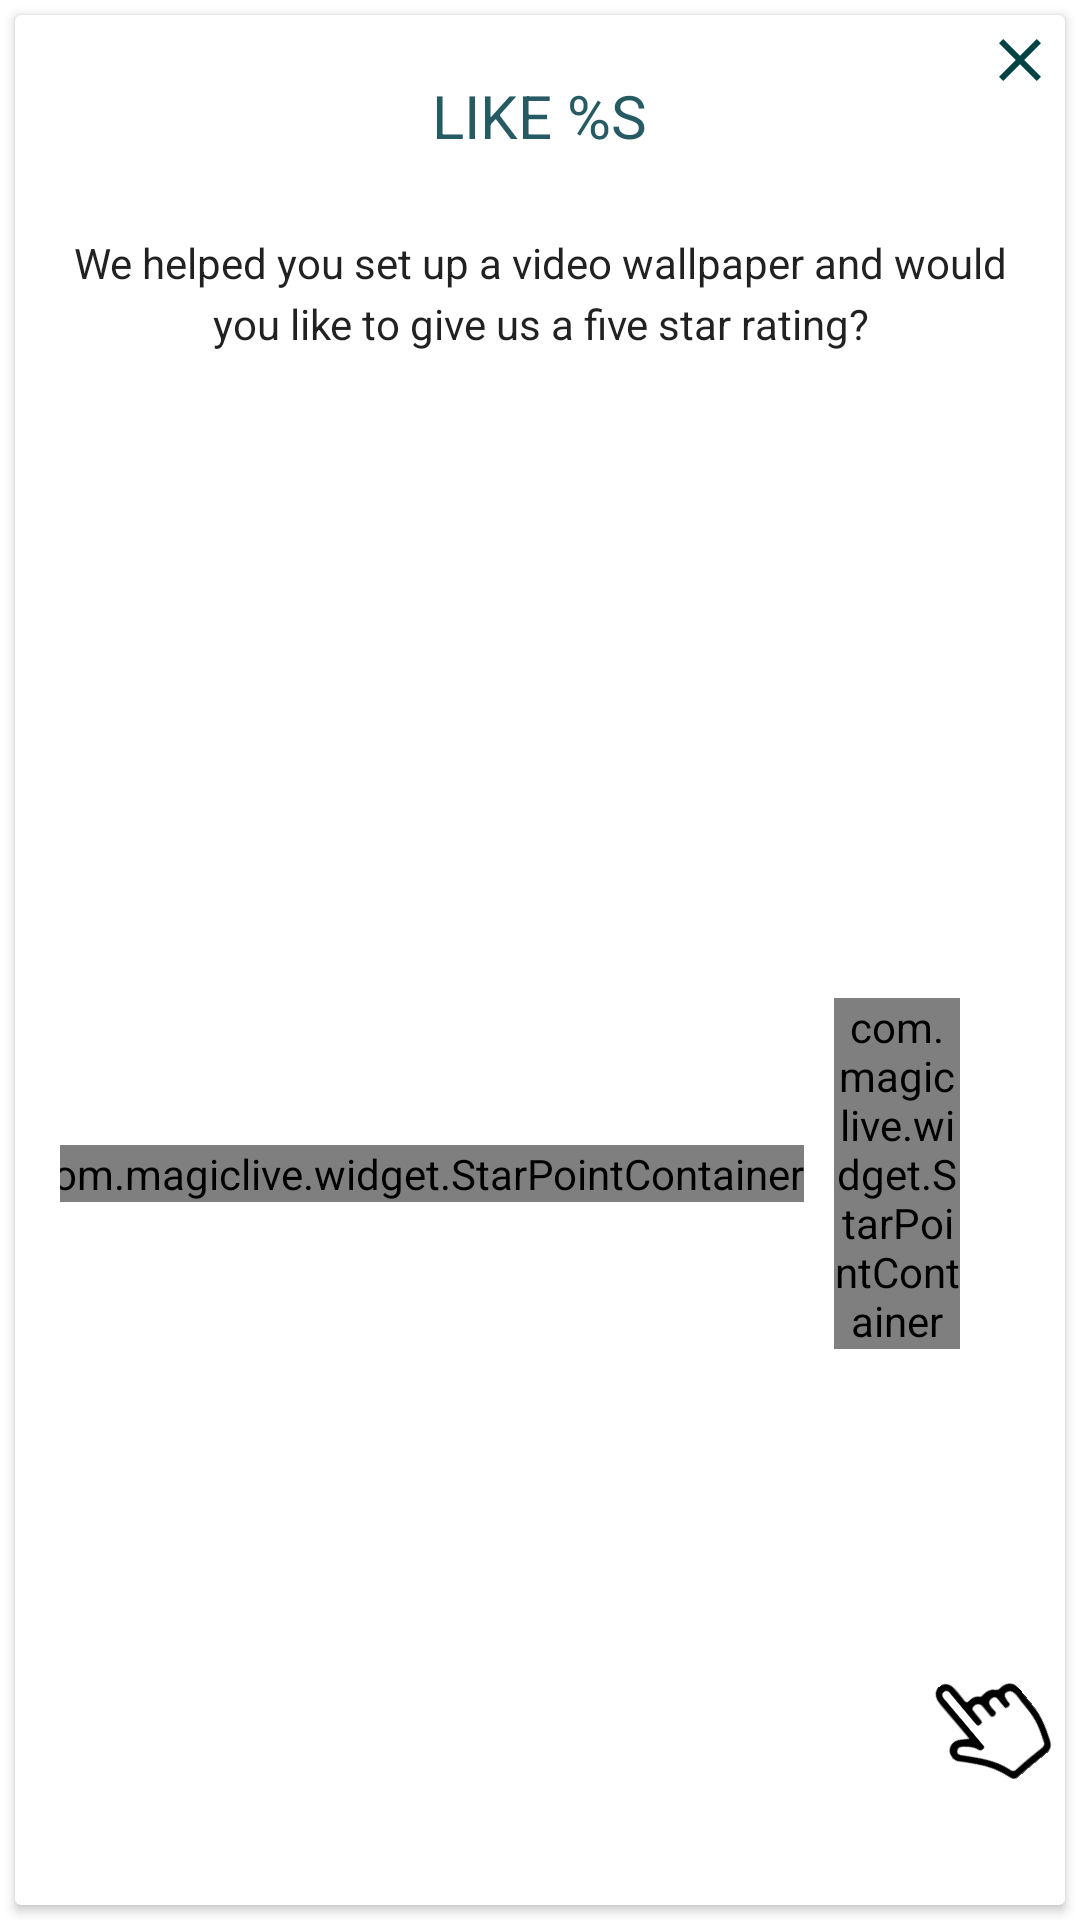

Named icons in this screenshot (1080*1920) and their bounding boxes, (x1, y1, x2, y2):
close: (999, 16, 1065, 81)
